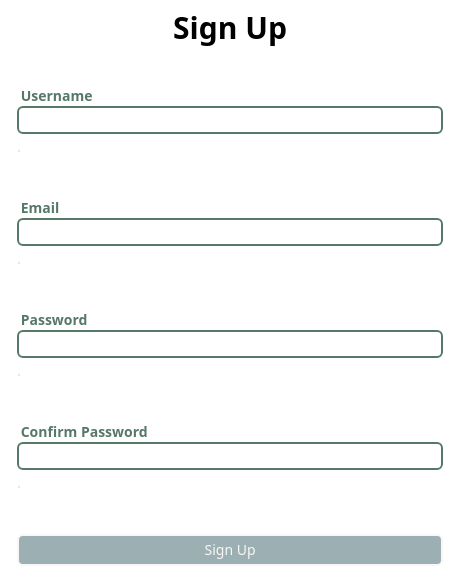
Test: SignUp › Entered Email is not valid - without address sign
Type "test_user" into the field named "Username" at [230, 120], box [17,106,443,134]
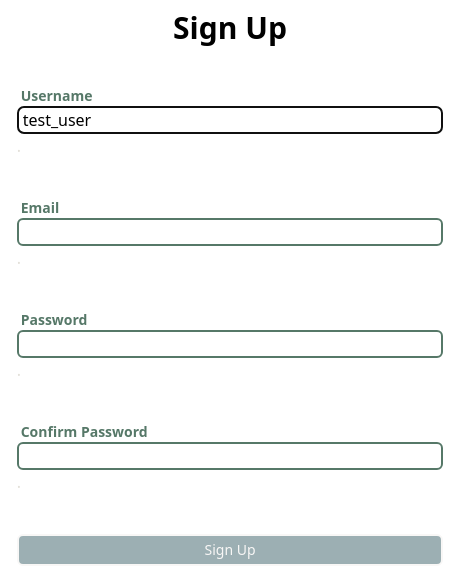
Type "testmail.com" into the field named "Email" at [230, 232], box [17,218,443,246]
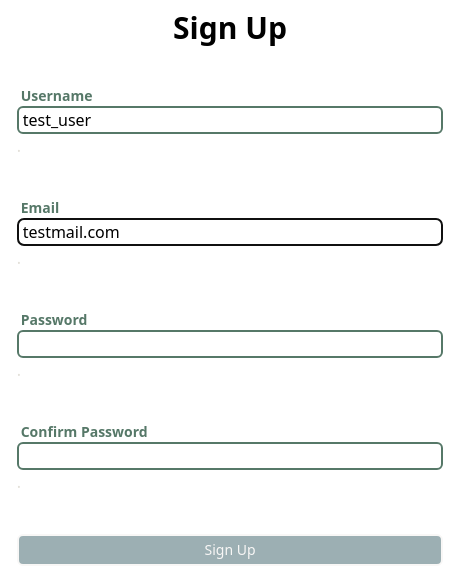
Type "passworD12!" into the password field named "Password" at [230, 344], box [17,330,443,358]
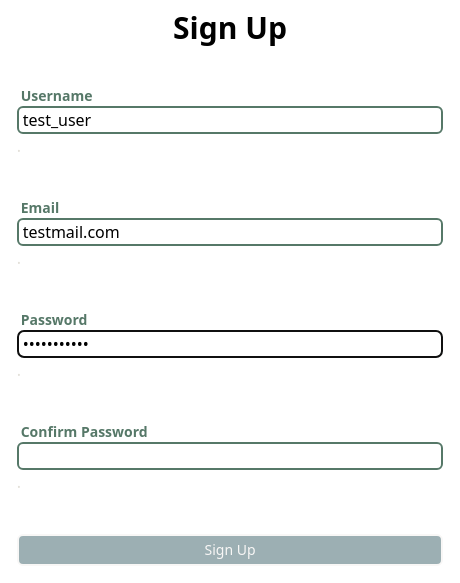
Type "passworD12!" into the password field named "Confirm Password" at [230, 456], box [17,442,443,470]
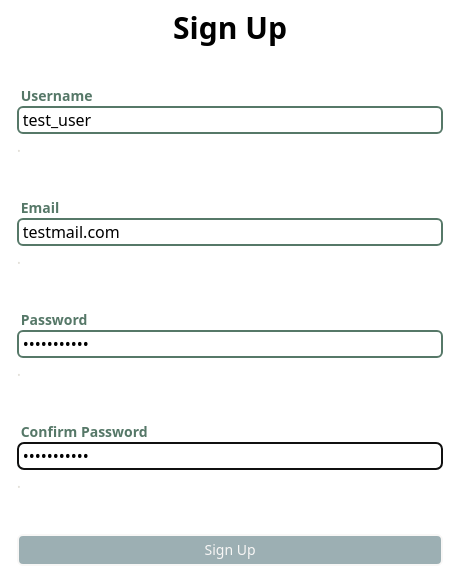
Click the button labelled "Sign Up" at [230, 550], box [17,534,443,566]
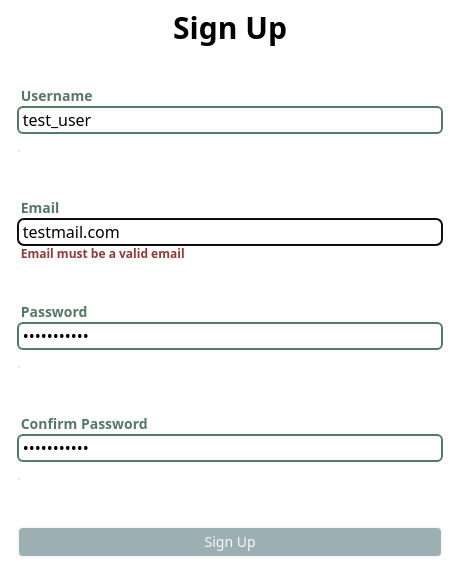
Check: the number of messages is 1, box [21,245,185,262]
